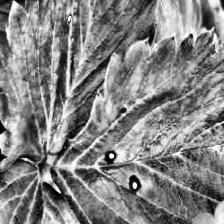Leaf Spot: (48, 28, 224, 224), (0, 0, 162, 173), (0, 0, 32, 171)
